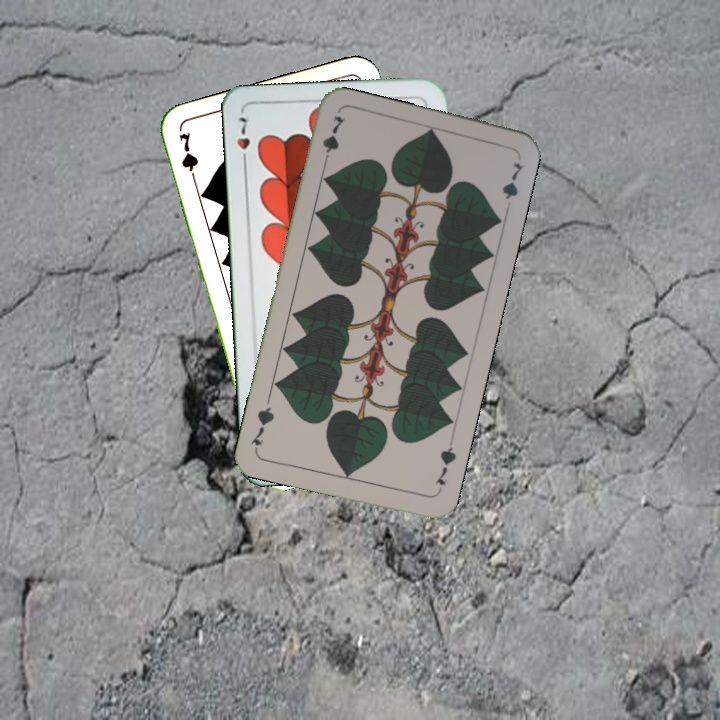G7: (318, 111, 347, 169), (431, 437, 459, 495), (175, 128, 201, 187)
H7: (232, 113, 253, 170)
